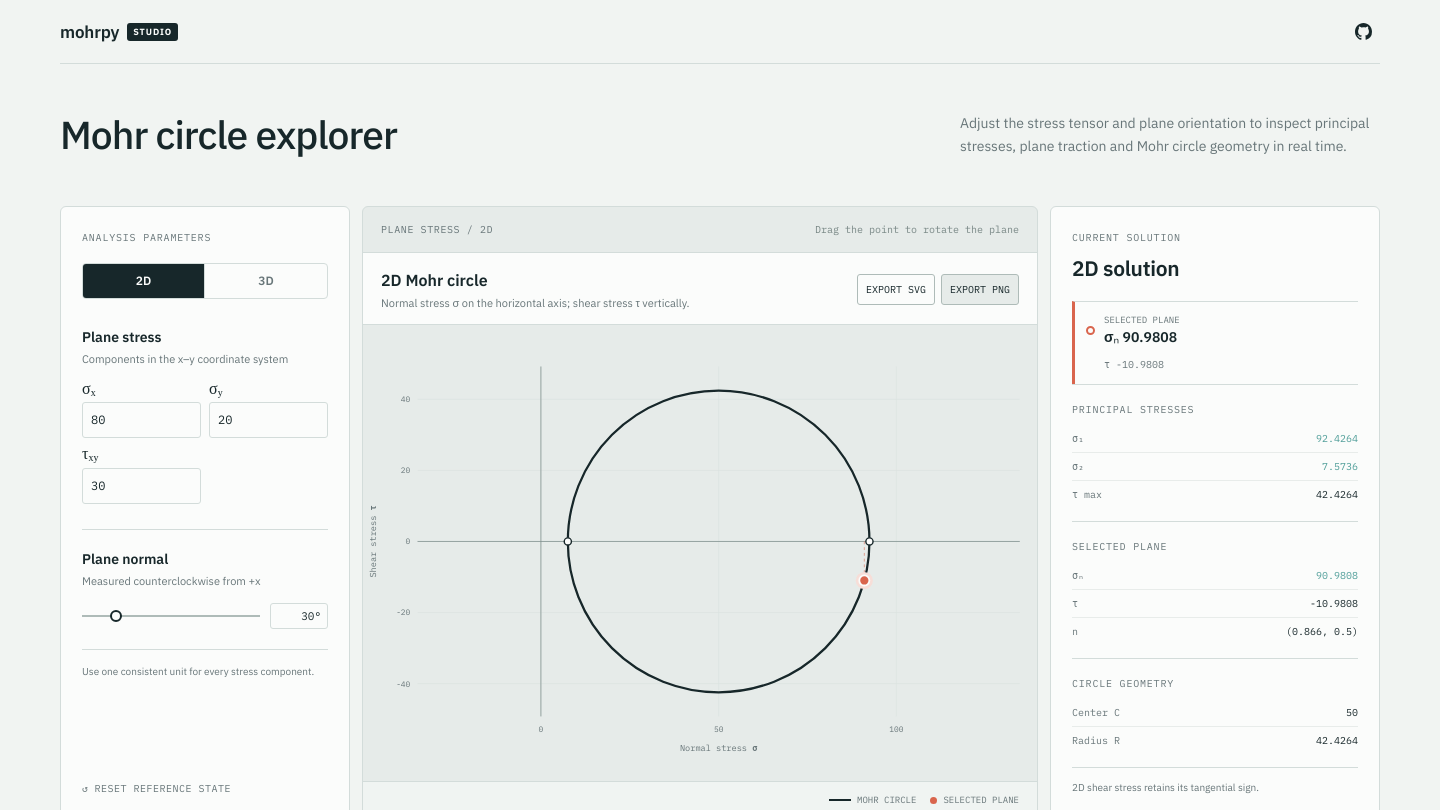
Test: interactive Mohr application › renders the 2D reference state and updates the selected plane
The image size is (1440, 810).
Expected: the heading "Mohr circle explorer" is shown, [60,109,397,160]
Expected: the text "Studio" is shown, [127,22,178,40]
Set the slider named "2D plane normal angle" to "90" at (171, 616), box [82,606,260,626]
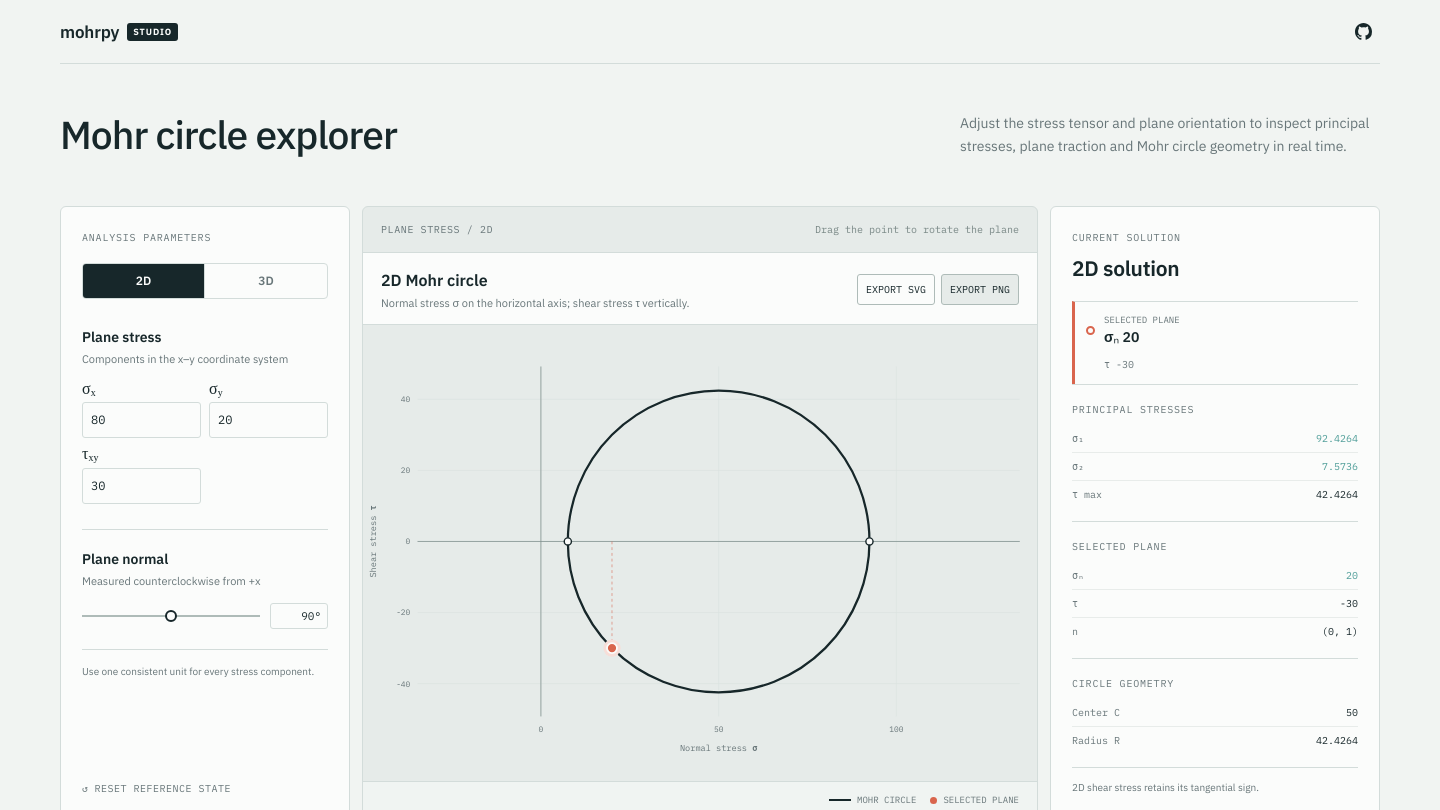
Expected: the heading "Principal stresses" is shown, [1072,403,1194,416]
Result: the text "-30" is shown at [1340,597,1358,610]
